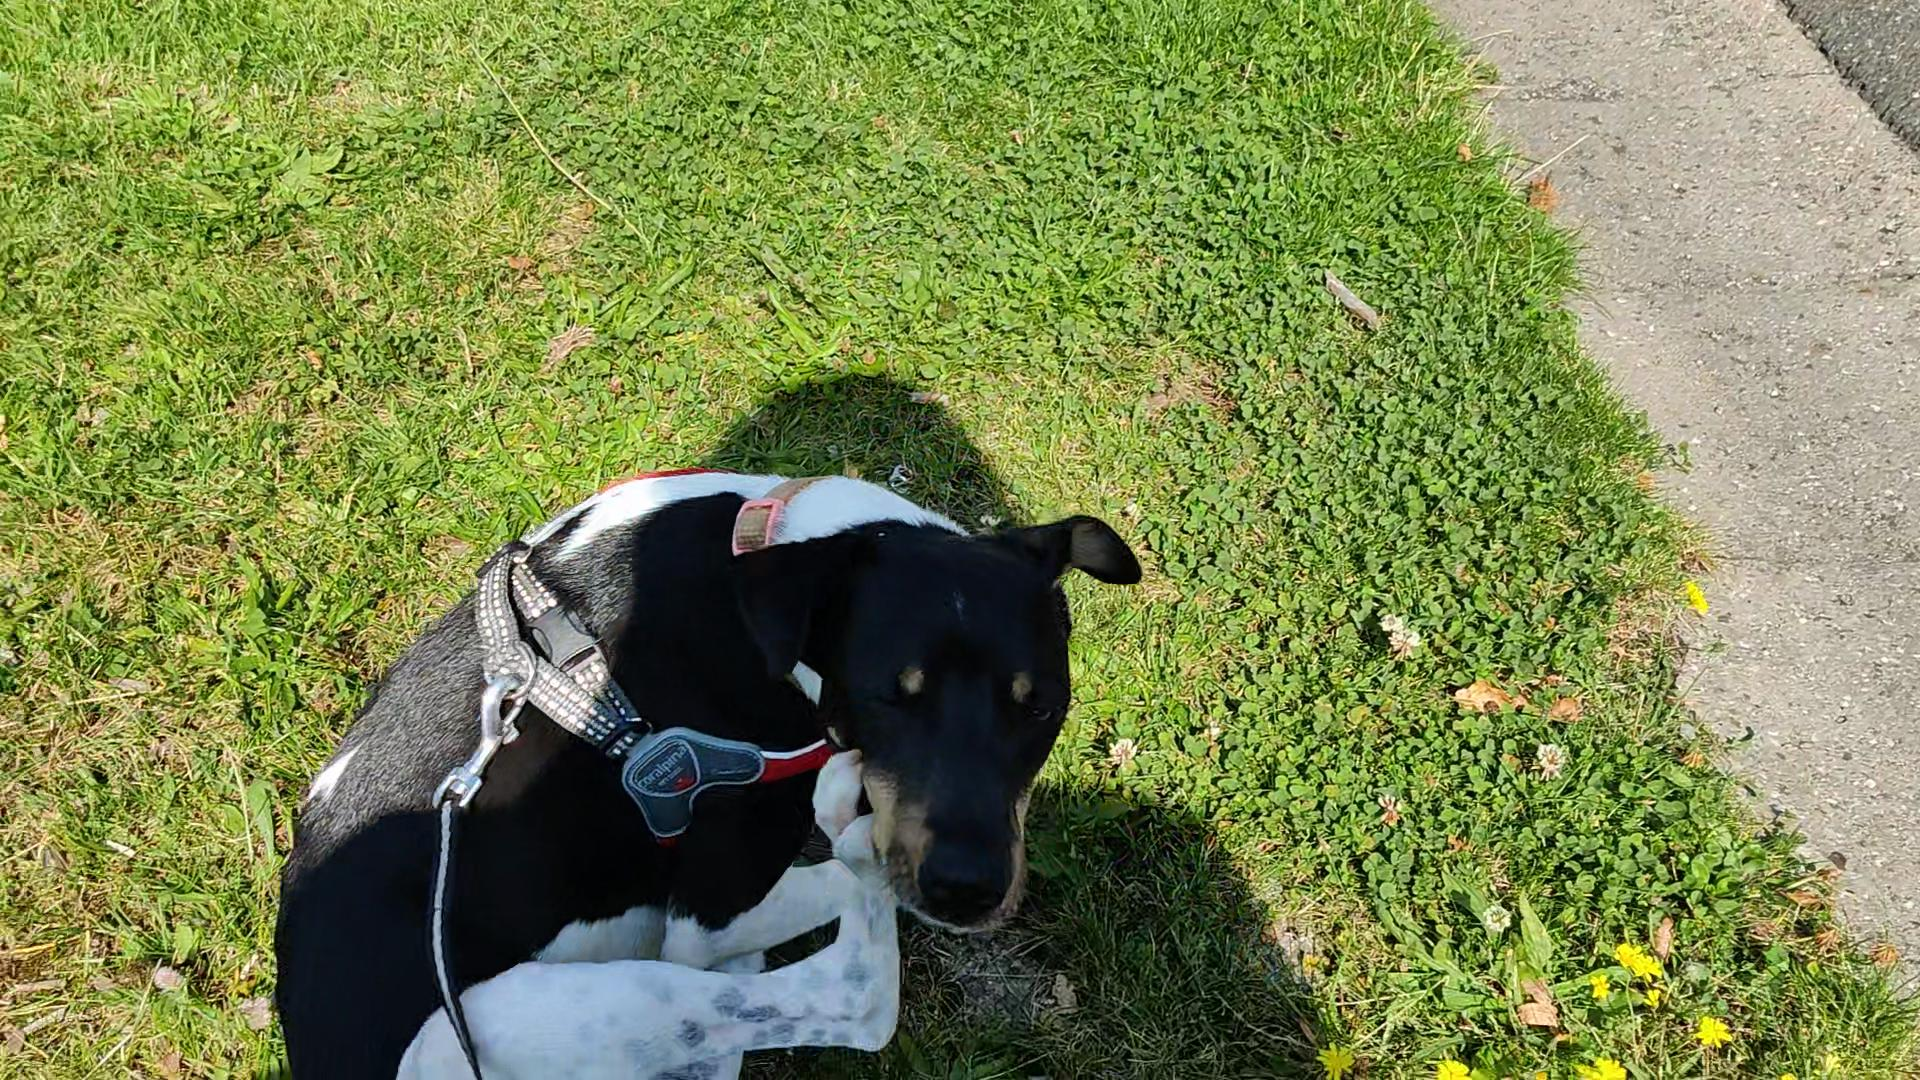Dog: (258, 458, 1149, 1079)
